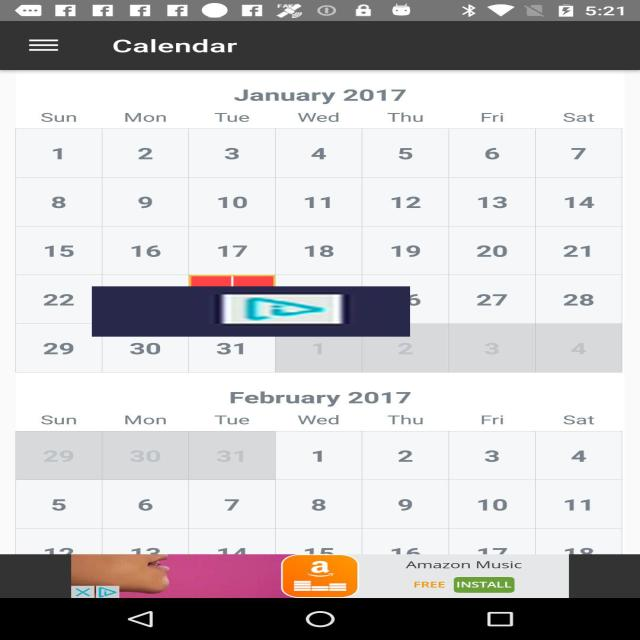sneaking: (92, 286, 410, 337)
